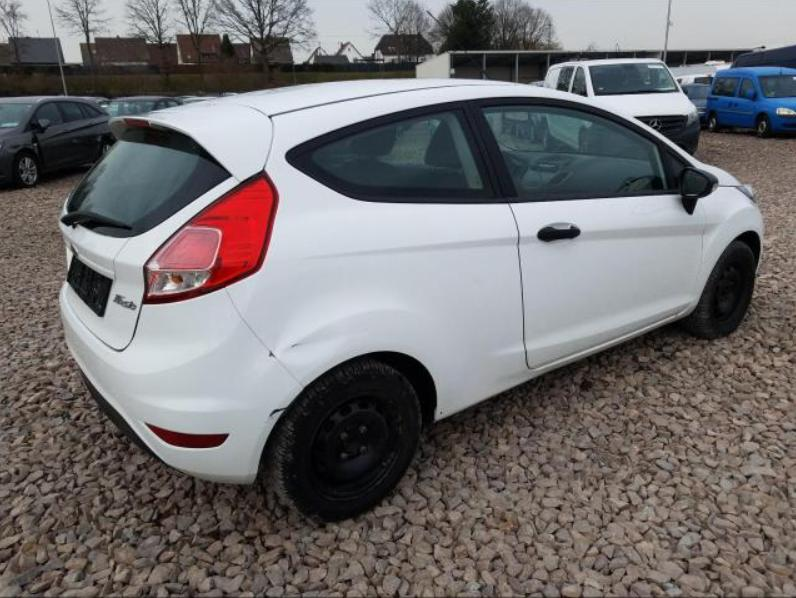Dent: (275, 294, 415, 369)
Paint chip: (266, 349, 276, 358), (289, 342, 300, 350)
Scratch: (263, 405, 289, 420), (439, 408, 446, 417)
